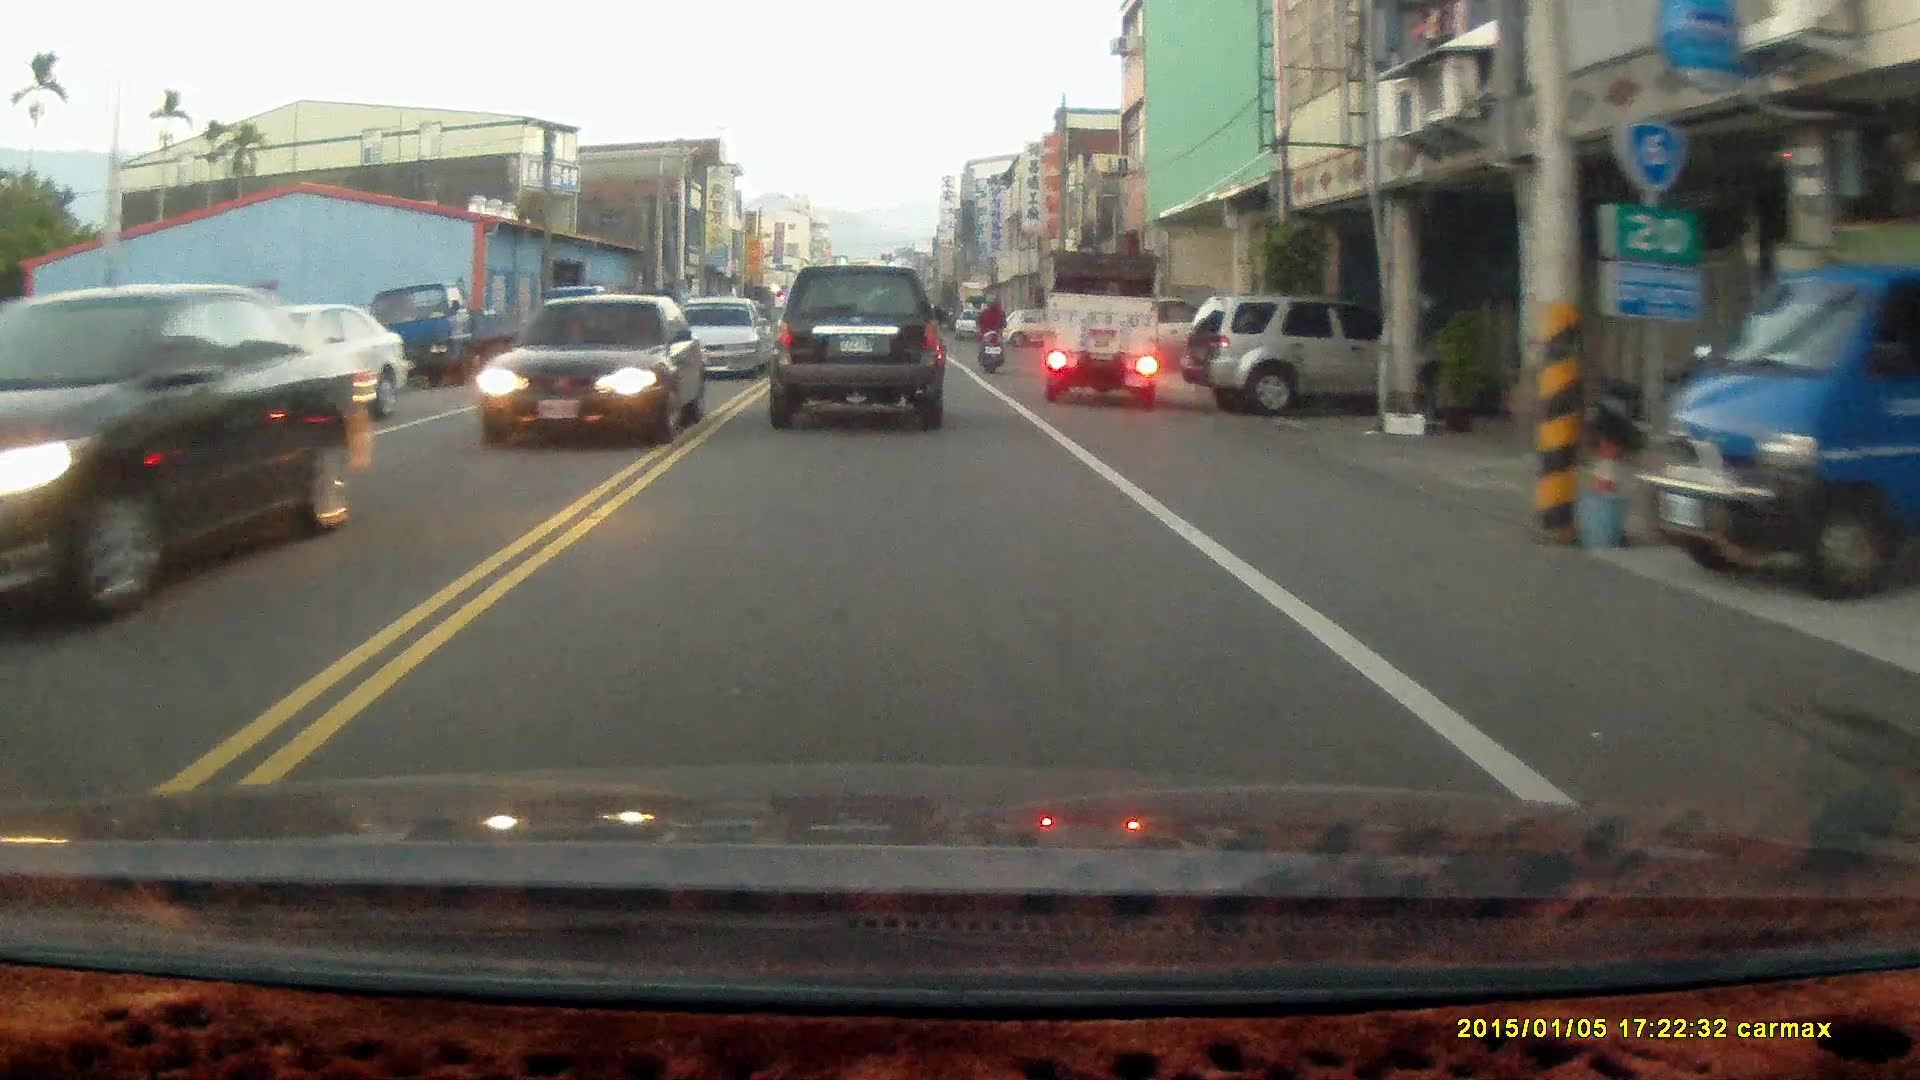rider: (971, 286, 1008, 371)
vehicle: (1, 277, 378, 641), (1643, 219, 1920, 608), (158, 298, 416, 456), (479, 286, 703, 446), (767, 263, 948, 428), (1183, 290, 1395, 413), (1044, 245, 1162, 398), (677, 295, 768, 378)
